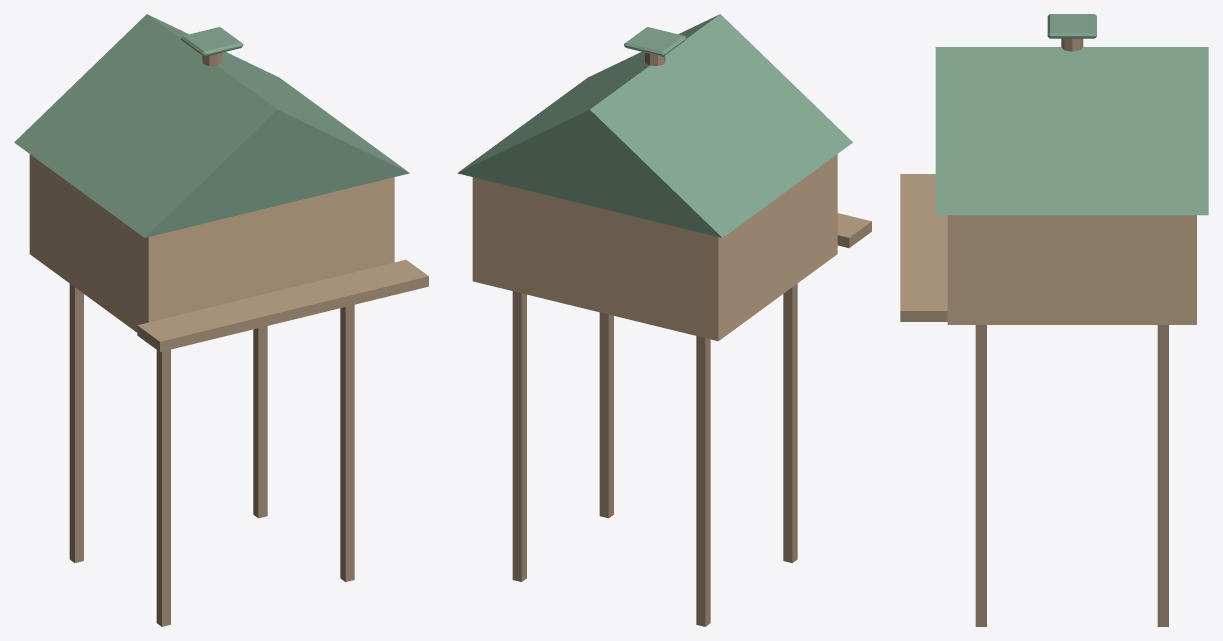
The model's file is ranger_lookout_far-D6MzIK2k.glb.
3 views of the same model, side by side, from view 1: azimuth 30°, elevation 25°; view 2: azimuth 150°, elevation 25°; view 3: azimuth 270°, elevation 25° (orthographic). The views are drawn at different scales.
Parts seen in each view (by area): view 1: ranger_lookout_far; view 2: ranger_lookout_far; view 3: ranger_lookout_far.
Boxes of the visible parts, x1,y1,x2,y2 form: ranger_lookout_far: (14, 14, 428, 626); ranger_lookout_far: (457, 14, 871, 626); ranger_lookout_far: (900, 14, 1208, 626).
Bounding box in the file's own units: 8.2 × 15.46 × 7.8.
